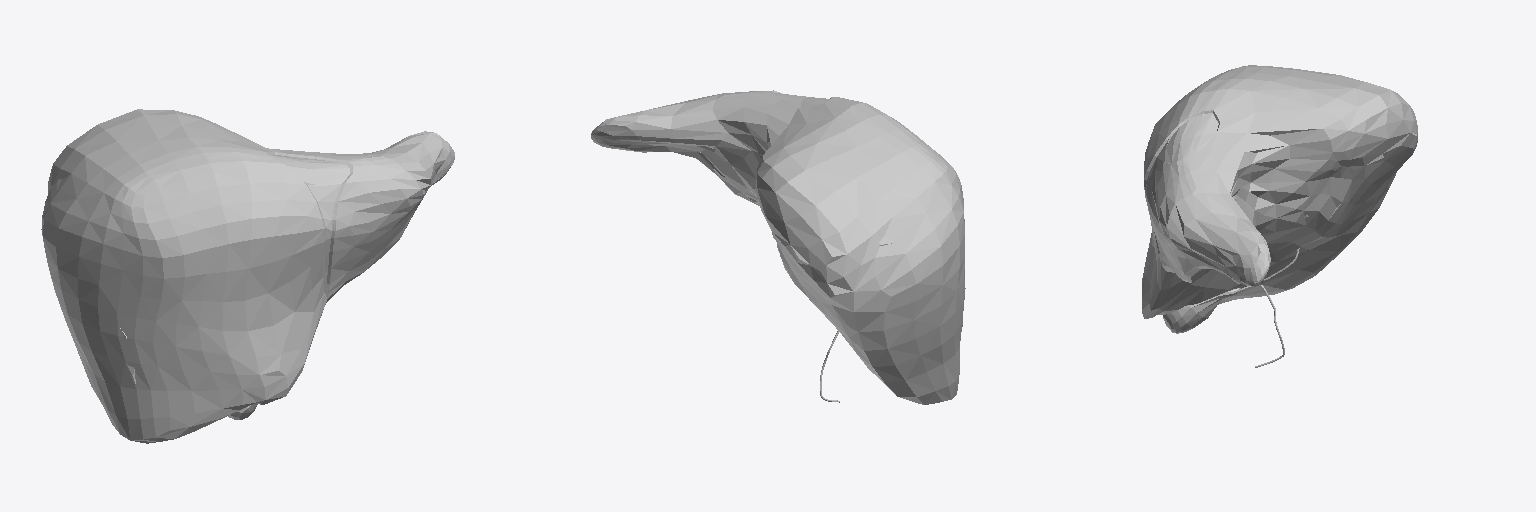
File: liver.obj
3 renders of one model, left to right at view 1: azimuth 30°, elevation 25°; view 2: azimuth 150°, elevation 25°; view 3: azimuth 270°, elevation 25°, orthographic.
Parts seen in each view (by area): view 1: t0071 org-_transp; view 2: t0071 org-_transp; view 3: t0071 org-_transp, t0086 org._Mat.3.
Boxes of the visible parts, x1,y1,x2,y2 form: t0071 org-_transp: [41, 109, 454, 443]; t0071 org-_transp: [591, 90, 964, 404]; t0071 org-_transp: [1142, 65, 1417, 318]; t0086 org._Mat.3: [1163, 288, 1240, 333].
Size of the model in its own units: 20.65 by 14.8 by 13.19.